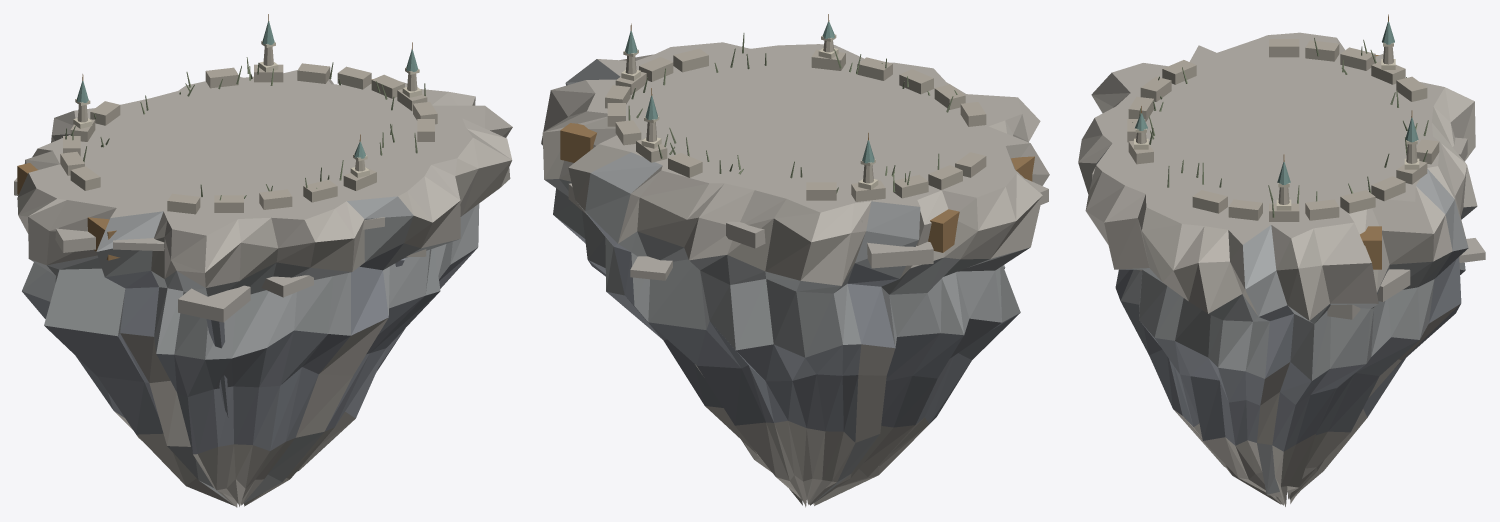
Rendered from island-terrace.glb.
The picture shows the model from 3 angles, left to right: view 1: azimuth 30°, elevation 25°; view 2: azimuth 150°, elevation 25°; view 3: azimuth 270°, elevation 25°; orthographic projection. The views are drawn at different scales.
Parts seen in each view (by area): view 1: island-terrace__rock_light, island-terrace__rock, island-terrace__rock_dark, island-terrace__limestone, island-terrace__moss, island-terrace__bronze, island-terrace__pale, island-terrace__copper; view 2: island-terrace__rock_light, island-terrace__rock, island-terrace__rock_dark, island-terrace__limestone, island-terrace__bronze, island-terrace__moss, island-terrace__pale, island-terrace__copper; view 3: island-terrace__rock_light, island-terrace__rock, island-terrace__rock_dark, island-terrace__limestone, island-terrace__moss, island-terrace__bronze, island-terrace__copper, island-terrace__pale.
Part boxes in pixels (x1,y1,x2,y2): island-terrace__rock_light: [14, 70, 512, 507]; island-terrace__rock: [22, 196, 479, 503]; island-terrace__rock_dark: [22, 243, 477, 454]; island-terrace__limestone: [60, 46, 437, 214]; island-terrace__moss: [65, 57, 425, 200]; island-terrace__bronze: [17, 14, 412, 260]; island-terrace__pale: [73, 40, 421, 177]; island-terrace__copper: [77, 21, 418, 158]; island-terrace__rock_light: [541, 42, 1049, 507]; island-terrace__rock: [541, 59, 1029, 503]; island-terrace__rock_dark: [555, 212, 1019, 442]; island-terrace__limestone: [605, 40, 986, 201]; island-terrace__bronze: [560, 14, 1034, 252]; island-terrace__moss: [628, 33, 957, 193]; island-terrace__pale: [621, 34, 878, 189]; island-terrace__copper: [625, 21, 874, 163]; island-terrace__rock_light: [1078, 32, 1485, 506]; island-terrace__rock: [1095, 148, 1476, 499]; island-terrace__rock_dark: [1115, 248, 1468, 451]; island-terrace__limestone: [1127, 39, 1439, 221]; island-terrace__moss: [1132, 37, 1428, 217]; island-terrace__bronze: [1141, 14, 1412, 269]; island-terrace__copper: [1135, 21, 1418, 184]; island-terrace__pale: [1134, 42, 1419, 210].
Size of the model in its own units: 211 by 182 by 153.
